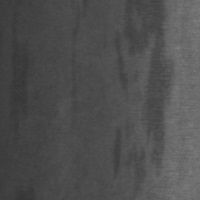inclusion: (112, 0, 177, 190), (5, 9, 36, 133), (67, 1, 91, 102), (106, 124, 125, 184)
